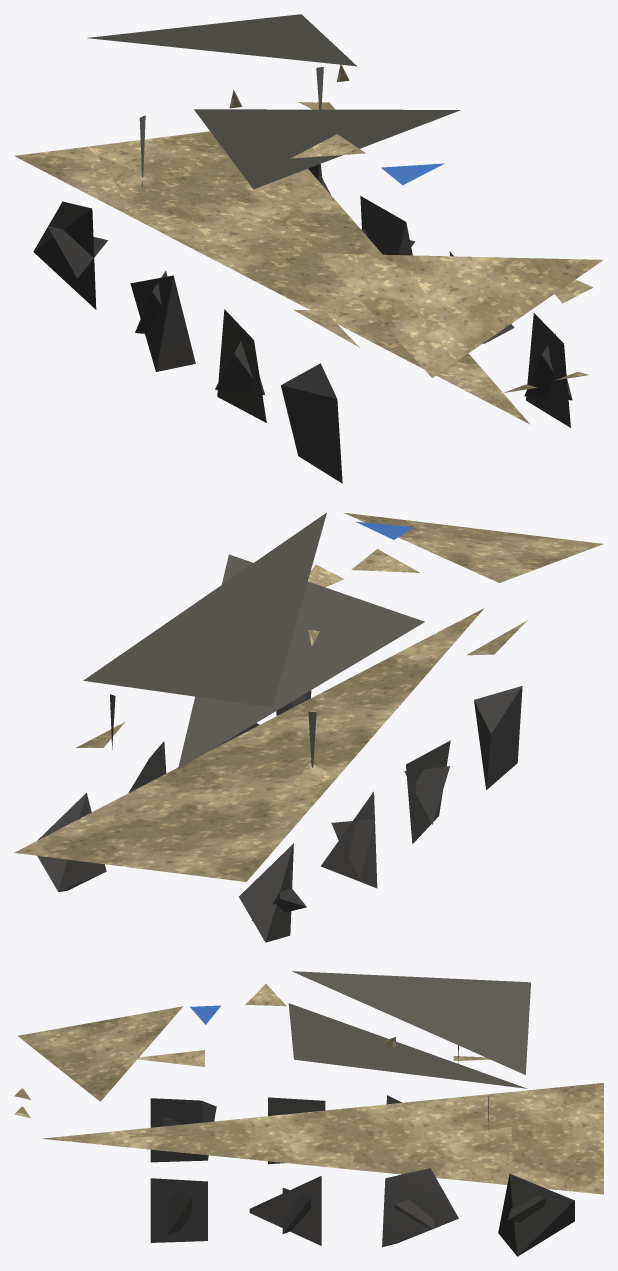
The model's file is msl_e4_us_coastal_LOD2.glb.
3 views of the same model, one above another, from view 1: azimuth 30°, elevation 25°; view 2: azimuth 150°, elevation 25°; view 3: azimuth 270°, elevation 25° (orthographic). The views are drawn at different scales.
Parts seen in each view (by area): view 1: msl_e4_us_coastal_LOD2_body, msl_e4_us_coastal_LOD2_track, msl_e4_us_coastal_LOD2_deck, msl_e4_us_coastal_LOD2_team; view 2: msl_e4_us_coastal_LOD2_body, msl_e4_us_coastal_LOD2_deck, msl_e4_us_coastal_LOD2_track; view 3: msl_e4_us_coastal_LOD2_body, msl_e4_us_coastal_LOD2_deck, msl_e4_us_coastal_LOD2_track.
Boxes of the visible parts, bbox=[...] form: msl_e4_us_coastal_LOD2_body: bbox=[15, 64, 603, 424]; msl_e4_us_coastal_LOD2_track: bbox=[33, 164, 572, 483]; msl_e4_us_coastal_LOD2_deck: bbox=[87, 14, 460, 189]; msl_e4_us_coastal_LOD2_team: bbox=[381, 163, 444, 185]; msl_e4_us_coastal_LOD2_body: bbox=[14, 512, 602, 881]; msl_e4_us_coastal_LOD2_deck: bbox=[83, 512, 424, 769]; msl_e4_us_coastal_LOD2_track: bbox=[37, 686, 522, 942]; msl_e4_us_coastal_LOD2_body: bbox=[14, 984, 603, 1194]; msl_e4_us_coastal_LOD2_deck: bbox=[288, 971, 530, 1088]; msl_e4_us_coastal_LOD2_track: bbox=[150, 1095, 574, 1256].
Size of the model in its own units: 2.99 by 3.67 by 8.17.
Materials: 5 (1 with a texture image).
